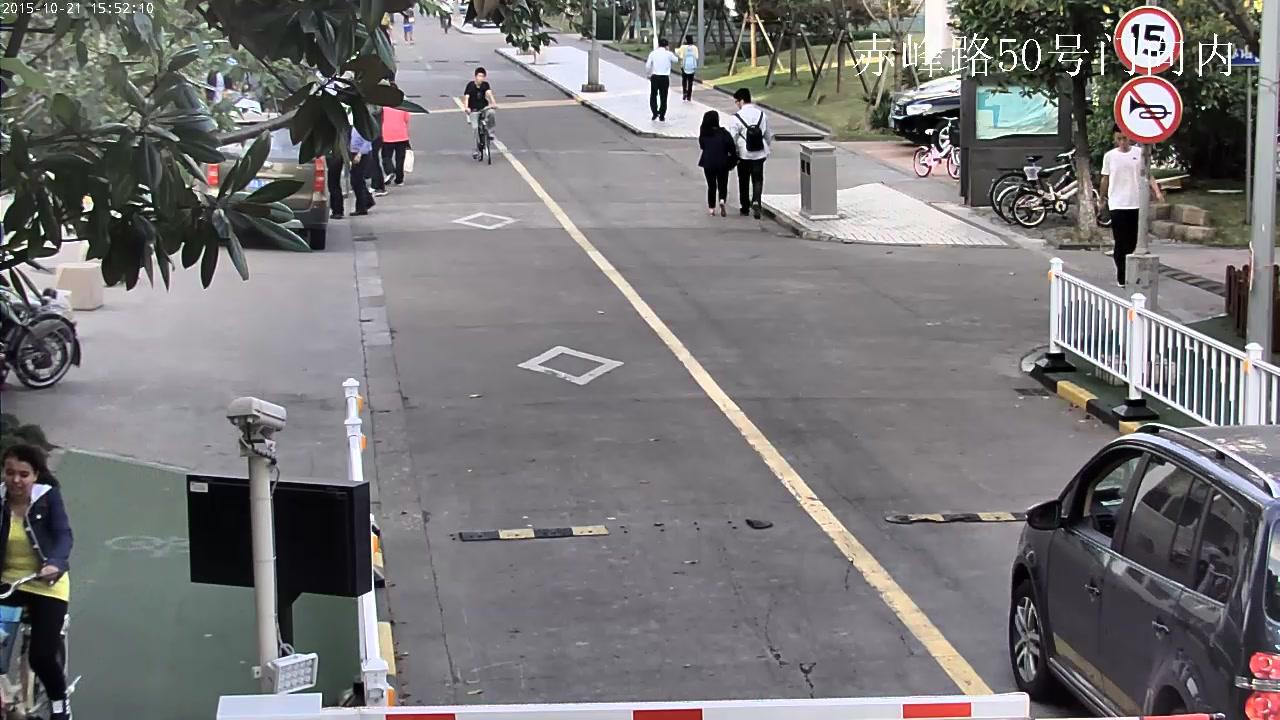face: (3, 458, 35, 497), (1113, 131, 1130, 147), (475, 71, 484, 84), (732, 96, 740, 109)
